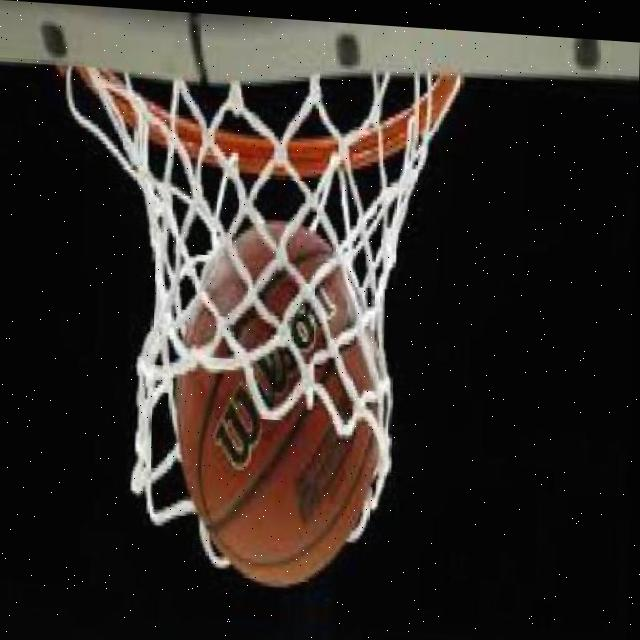Goal: (174, 216, 381, 591)
